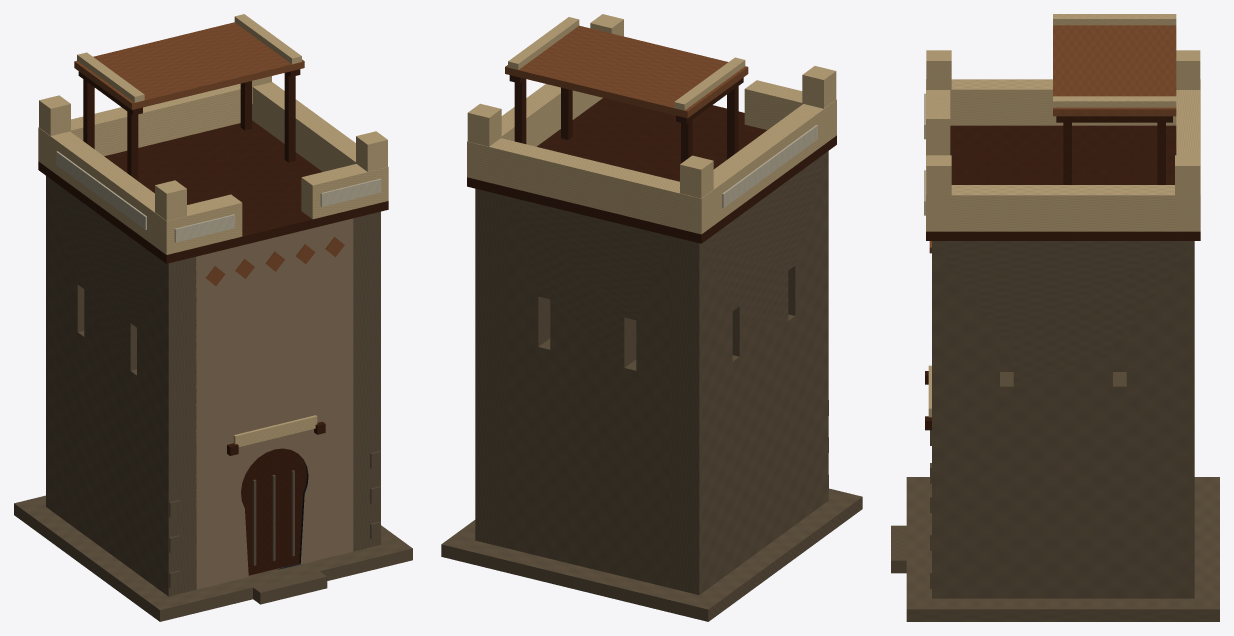
File: Berber_Outpost_Age4_stone.fbx
3 views of the same model, side by side, from view 1: azimuth 30°, elevation 25°; view 2: azimuth 150°, elevation 25°; view 3: azimuth 270°, elevation 25° (orthographic). The views are drawn at different scales.
Parts seen in each view (by area): view 1: fortified_stone_side, fortified_stone_face, lookout_floor, tower_foundation, fitted_flat_canopy, fortified_stone_side.001, lookout_parapet_back, horseshoe_door.001, lookout_parapet_side.001, lookout_parapet_side, lookout_parapet_front.001, lookout_parapet_front (+14 smaller); view 2: fortified_stone_face.001, fortified_stone_side, lookout_floor, tower_foundation, lookout_parapet_back, fitted_flat_canopy, fortified_stone_side.001, lookout_parapet_side, lookout_parapet_side.001, lookout_parapet_front, neutral_owner_side_band, corner_merlon.003 (+7 smaller); view 3: fortified_stone_side.001, lookout_floor, tower_foundation, lookout_parapet_side.001, fitted_flat_canopy, lookout_parapet_side, lookout_parapet_back, lookout_parapet_front, stone_crown_coping.001, stone_crown_coping, corner_merlon, corner_merlon.002 (+8 smaller).
Boxes of the visible parts, box(x1,y1,x2,y2) form: fortified_stone_side: box(46, 176, 196, 596); fortified_stone_face: box(196, 218, 353, 589); lookout_floor: box(38, 120, 388, 263); tower_foundation: box(14, 495, 412, 621); fitted_flat_canopy: box(74, 22, 304, 109); fortified_stone_side.001: box(352, 211, 380, 551); lookout_parapet_back: box(38, 83, 240, 168); horseshoe_door.001: box(241, 448, 306, 575); lookout_parapet_side.001: box(252, 82, 355, 171); lookout_parapet_side: box(49, 131, 160, 248); lookout_parapet_front.001: box(301, 164, 388, 219); lookout_parapet_front: box(155, 194, 242, 254); fortified_stone_face.001: box(504, 196, 670, 587); fortified_stone_side: box(669, 151, 828, 594); lookout_floor: box(467, 98, 836, 243); tower_foundation: box(441, 488, 862, 621); lookout_parapet_back: box(467, 138, 713, 234); fitted_flat_canopy: box(505, 25, 748, 118); fortified_stone_side.001: box(475, 188, 504, 547); lookout_parapet_side: box(713, 104, 830, 225); lookout_parapet_side.001: box(501, 84, 602, 146); lookout_parapet_front: box(744, 80, 836, 143); neutral_owner_side_band: box(722, 125, 817, 207); corner_merlon.003: box(467, 103, 501, 146); fortified_stone_side.001: box(932, 241, 1194, 598); lookout_floor: box(926, 125, 1200, 240); tower_foundation: box(906, 477, 1219, 621); lookout_parapet_side.001: box(938, 185, 1187, 231); fitted_flat_canopy: box(1053, 25, 1176, 116); lookout_parapet_side: box(950, 79, 1176, 125); lookout_parapet_back: box(1176, 79, 1200, 231); lookout_parapet_front: box(926, 79, 950, 155); stone_crown_coping.001: box(1053, 96, 1176, 107); stone_crown_coping: box(1053, 14, 1176, 25); corner_merlon: box(926, 50, 951, 108); corner_merlon.002: box(926, 155, 951, 195).
Size of the model in its own units: 360 by 632 by 378.
5 materials, 5 textured.
